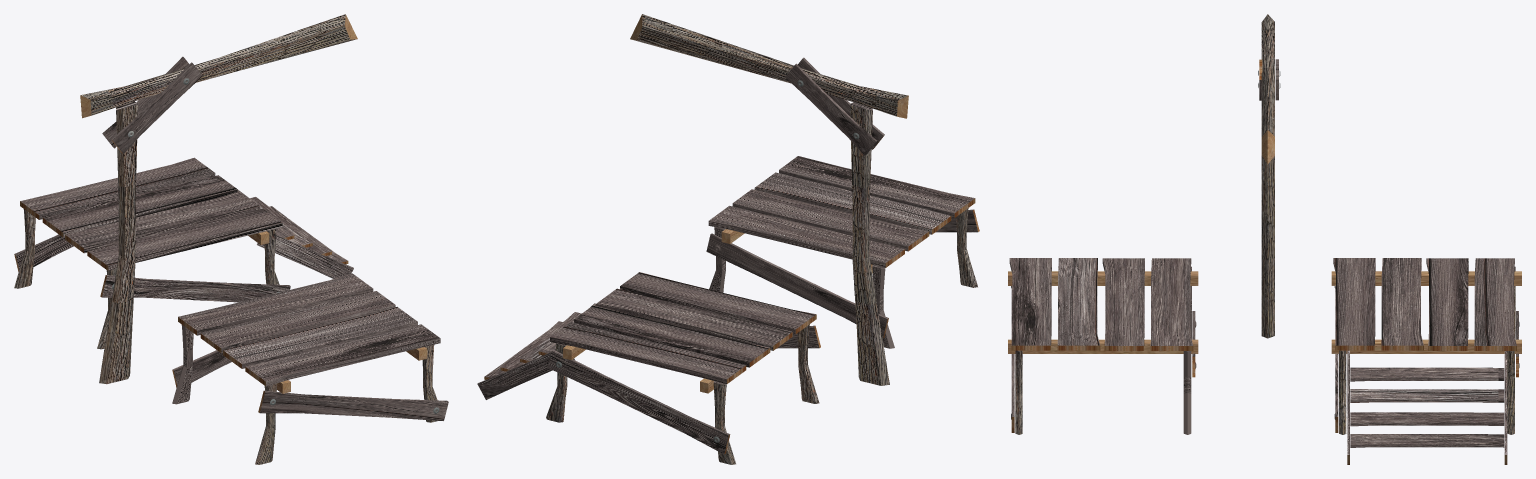
Rendered from GallowsHD.fbx.
The picture shows the model from 3 angles, left to right: view 1: azimuth 30°, elevation 25°; view 2: azimuth 150°, elevation 25°; view 3: azimuth 270°, elevation 25°; orthographic projection. The views are drawn at different scales.
Parts seen in each view (by area): view 1: Plane.002; view 2: Plane.002; view 3: Plane.002.
Part boxes in pixels (bbox=[...]): Plane.002: bbox=[14, 14, 448, 464]; Plane.002: bbox=[477, 14, 979, 464]; Plane.002: bbox=[1008, 14, 1521, 464].
Size of the model in its own units: 432 by 408 by 600.
Materials: 4 (4 with a texture image).
